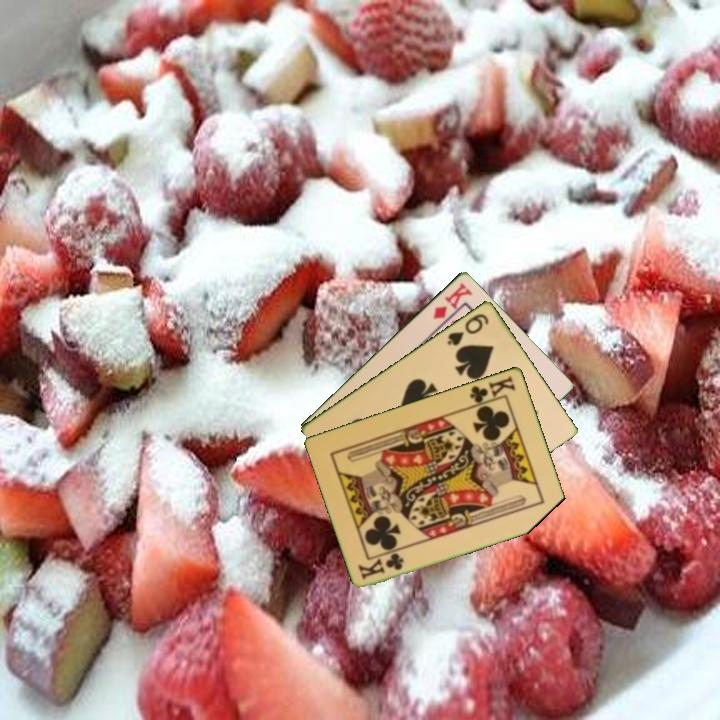6s: (443, 309, 492, 348)
Kc: (466, 371, 519, 409), (355, 549, 407, 582)
Kd: (429, 279, 475, 322)
